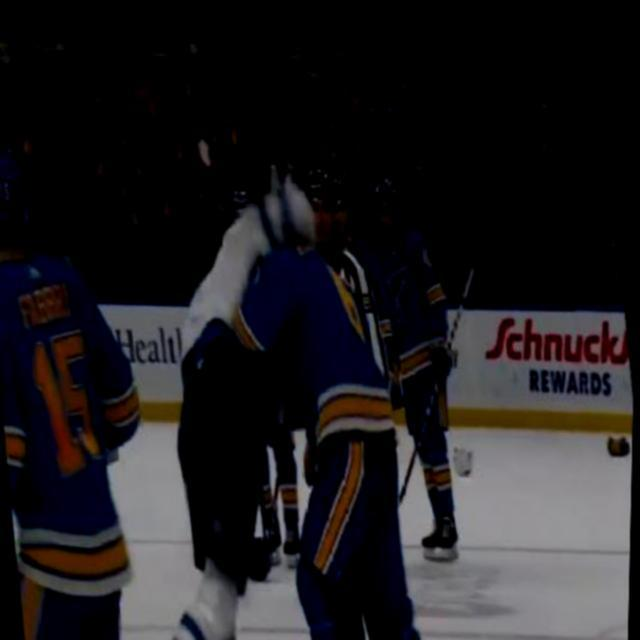fight: (146, 145, 444, 640)
